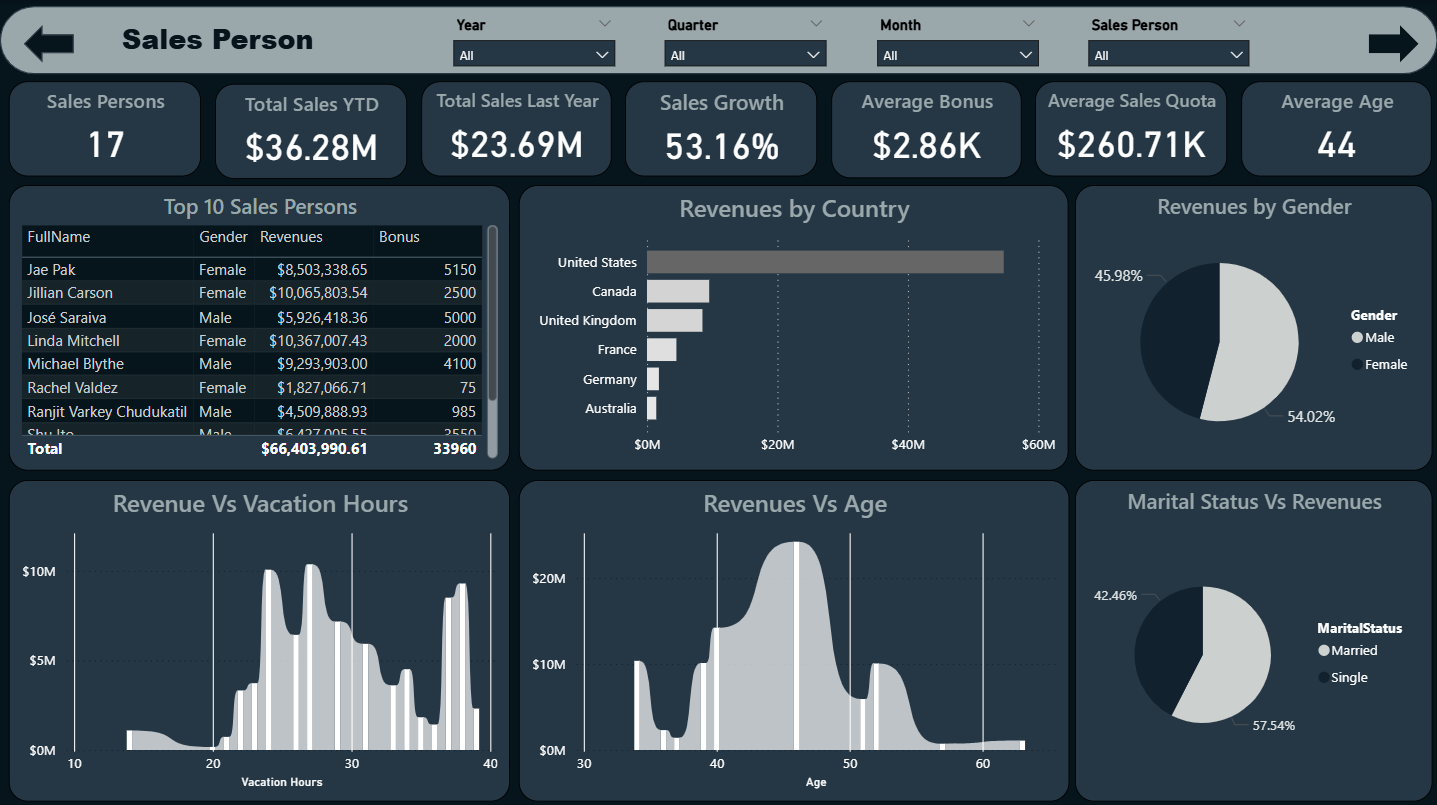

What the dashboard file says about the page in this screenshot:
{"tool":"powerbi","page":{"name":"🧑💼 Sales Person","canvas":[1280,720],"ordinal":3},"visuals":[{"type":"shape","box":[0,5.8,1280.2,60.5],"z":0},{"type":"shape","box":[21.2,22.3,44.5,33.4],"z":1000},{"type":"shape","title":"Sales Person","box":[1218.9,22.3,44.5,33.4],"z":2000},{"type":"textbox","box":[103.5,12.2,248.2,46.8],"z":3000},{"type":"card","title":"Average Age","fields":{"Values":["measures_.Average Age"]},"box":[1105.6,72.8,169.9,84.9],"z":4000},{"type":"card","title":"Average Sales Quota","fields":{"Values":["measures_.Average Sales Quota"]},"box":[922.1,72.8,171.4,84.9],"z":5000},{"type":"card","title":"Sales Growth","fields":{"Values":["measures_.Sales Growth"]},"box":[556.6,72.8,171.4,84.9],"z":6000},{"type":"card","title":"Total Sales YTD","fields":{"Values":["measures_.Total Sales YTD"]},"box":[191.1,74.3,171.4,84.9],"z":7000},{"type":"card","title":"Total Sales Last Year","fields":{"Values":["measures_.Total Sales Last Year"]},"box":[374.6,72.8,169.9,84.9],"z":8000},{"type":"card","title":"Average Bonus","fields":{"Values":["measures_.Average Bonus"]},"box":[740.1,72.8,169.9,86.4],"z":9000},{"type":"card","title":"Sales Persons","fields":{"Values":["measures_.Total Salespersons"]},"box":[7.6,72.8,171.4,84.9],"z":10000},{"type":"clusteredBarChart","title":"Revenues by Country","fields":{"Category":["Dim_EmpCountryRegion.CountryName"],"Y":["measures_.SalesFromFact"]},"box":[461.6,165.1,489.5,254.7],"z":11000},{"type":"tableEx","title":"Top 10 Sales Persons","fields":{"Values":["Dim_Sales_Person.FullName","Dim_Sales_Person.Gender","measures_.SalesFromFact","Sum(Dim_Sales_Person.Bonus)"]},"box":[8.1,165.1,446.5,254.7],"z":12000},{"type":"pieChart","title":"Marital Status Vs Revenues","fields":{"Category":["Dim_Sales_Person.MaritalStatus"],"Y":["measures_.SalesFromFact"]},"box":[957,427.9,318,286],"z":13000},{"type":"pieChart","title":"Revenues by Gender","fields":{"Y":["measures_.Total Sales YTD"],"Category":["Dim_Sales_Person.Gender"]},"box":[957,165.1,318,254.7],"z":14000},{"type":"ribbonChart","title":"Revenue Vs Vacation Hours","fields":{"Category":["Dim_Sales_Person.VacationHours"],"Y":["measures_.SalesFromFact"]},"box":[8.1,427.9,446.5,286],"z":15000},{"type":"ribbonChart","title":"Revenues Vs Age","fields":{"Category":["Dim_Sales_Person.Age"],"Y":["measures_.SalesFromFact"]},"box":[461.6,427.9,490.7,286],"z":16000},{"type":"slicer","fields":{"Values":["Date.Year"]},"box":[391.3,7.8,167.4,54.7],"z":17000},{"type":"slicer","fields":{"Values":["Date.Quarter"]},"box":[580,7.8,167.4,54.7],"z":18000},{"type":"slicer","fields":{"Values":["Date.Month"]},"box":[768.7,7.8,167.4,54.7],"z":19000},{"type":"slicer","fields":{"Values":["Dim_Sales_Person.FullName"]},"box":[957.3,7.8,167,54.5],"z":20000}]}

Visuals, with their boxes in screenshot pixels (x1, y1, x2, y2), scaled from the page's 1280x720 canvas onto the 1437x805 screenshot:
shape: region(0, 6, 1436, 74)
shape: region(24, 25, 74, 62)
"Sales Person" shape: region(1368, 25, 1418, 62)
textbox: region(116, 14, 395, 66)
"Average Age" card: region(1241, 81, 1432, 176)
"Average Sales Quota" card: region(1035, 81, 1228, 176)
"Sales Growth" card: region(625, 81, 817, 176)
"Total Sales YTD" card: region(215, 83, 407, 178)
"Total Sales Last Year" card: region(421, 81, 611, 176)
"Average Bonus" card: region(831, 81, 1022, 178)
"Sales Persons" card: region(9, 81, 201, 176)
"Revenues by Country" clusteredBarChart: region(518, 185, 1068, 469)
"Top 10 Sales Persons" tableEx: region(9, 185, 510, 469)
"Marital Status Vs Revenues" pieChart: region(1074, 478, 1431, 798)
"Revenues by Gender" pieChart: region(1074, 185, 1431, 469)
"Revenue Vs Vacation Hours" ribbonChart: region(9, 478, 510, 798)
"Revenues Vs Age" ribbonChart: region(518, 478, 1069, 798)
slicer - Date.Year: region(439, 9, 627, 70)
slicer - Date.Quarter: region(651, 9, 839, 70)
slicer - Date.Month: region(863, 9, 1051, 70)
slicer - Dim_Sales_Person.FullName: region(1075, 9, 1262, 70)
